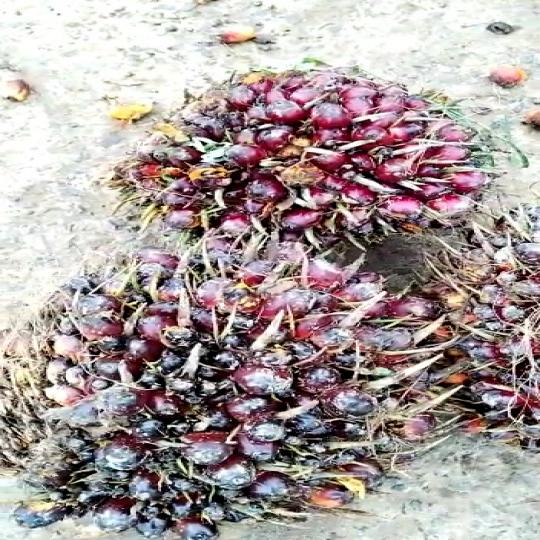kurang masak: (0, 228, 437, 539), (130, 73, 512, 242)
